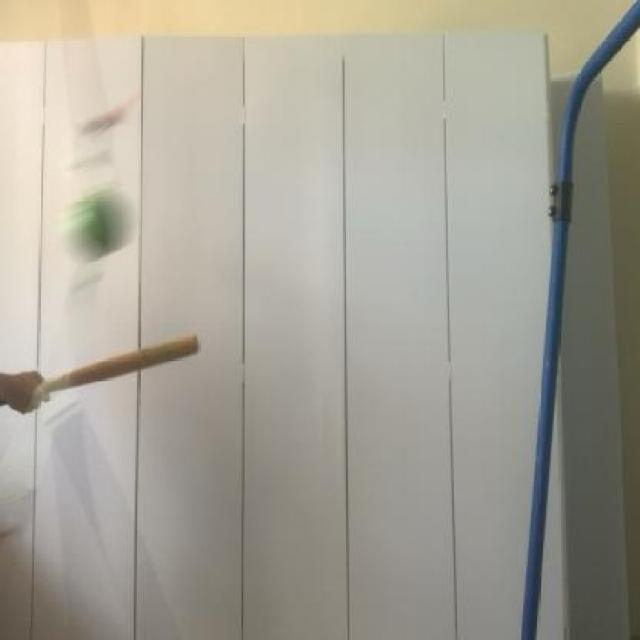baseball: (56, 174, 138, 266)
